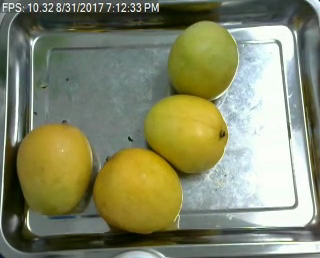Mango: (93, 143, 189, 239), (16, 118, 98, 217), (141, 94, 233, 179), (164, 17, 242, 103)
